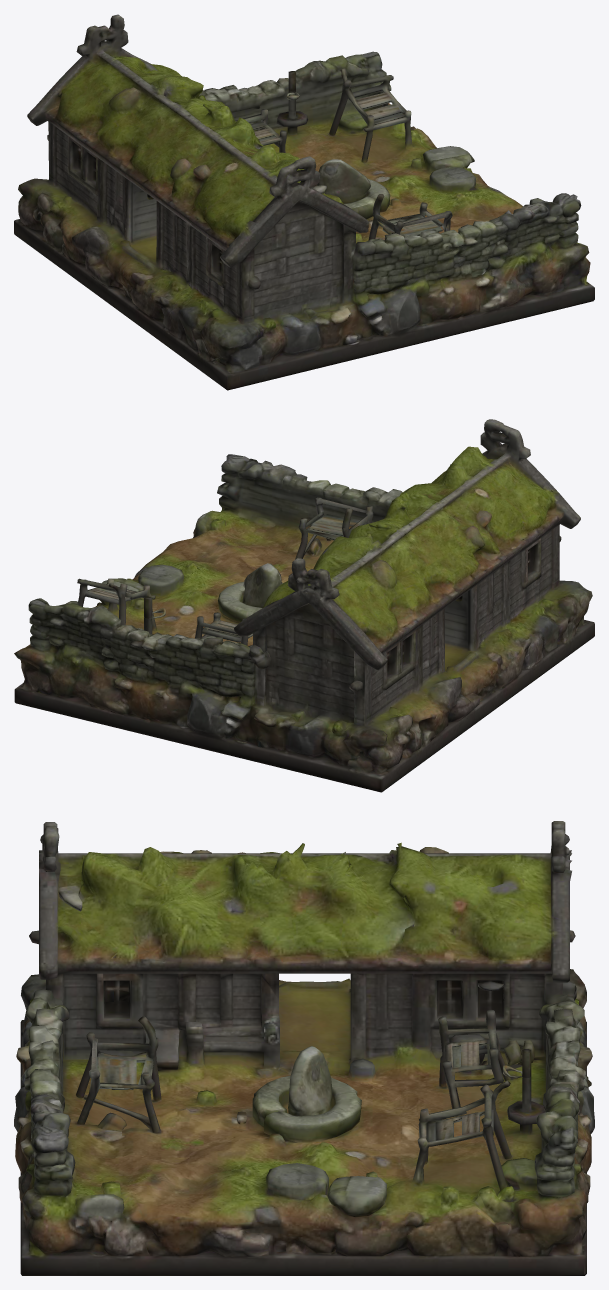
Rendered from area_saltfell_yard_remesh.glb.
3 views of the same model, one above another, from view 1: azimuth 30°, elevation 25°; view 2: azimuth 150°, elevation 25°; view 3: azimuth 270°, elevation 25° (orthographic). The views are drawn at different scales.
Visible parts, largest first — view 1: area_saltfell_yard_remesh-col; view 2: area_saltfell_yard_remesh-col; view 3: area_saltfell_yard_remesh-col.
Part boxes in pixels (x1,y1,x2,y2): area_saltfell_yard_remesh-col: (14,14,594,390); area_saltfell_yard_remesh-col: (14,419,594,792); area_saltfell_yard_remesh-col: (14,821,594,1275).
Bounding box in the file's own units: 30 × 15.32 × 30.
1 material, 1 textured.
